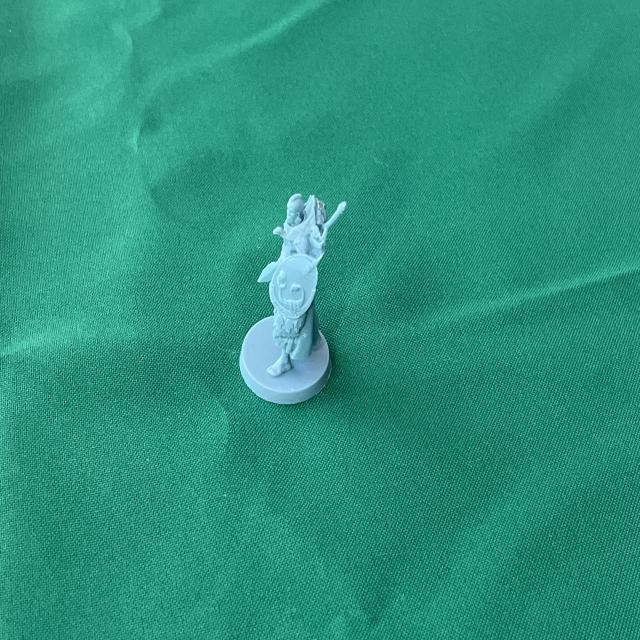isis_follower: (237, 190, 347, 408)
